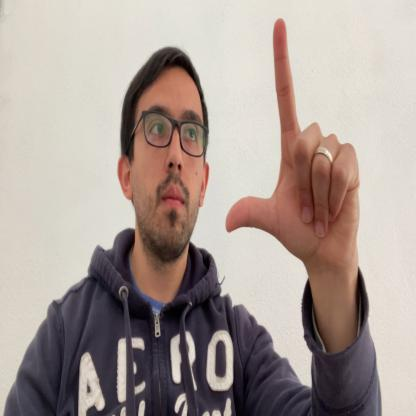L: (225, 18, 359, 270)
